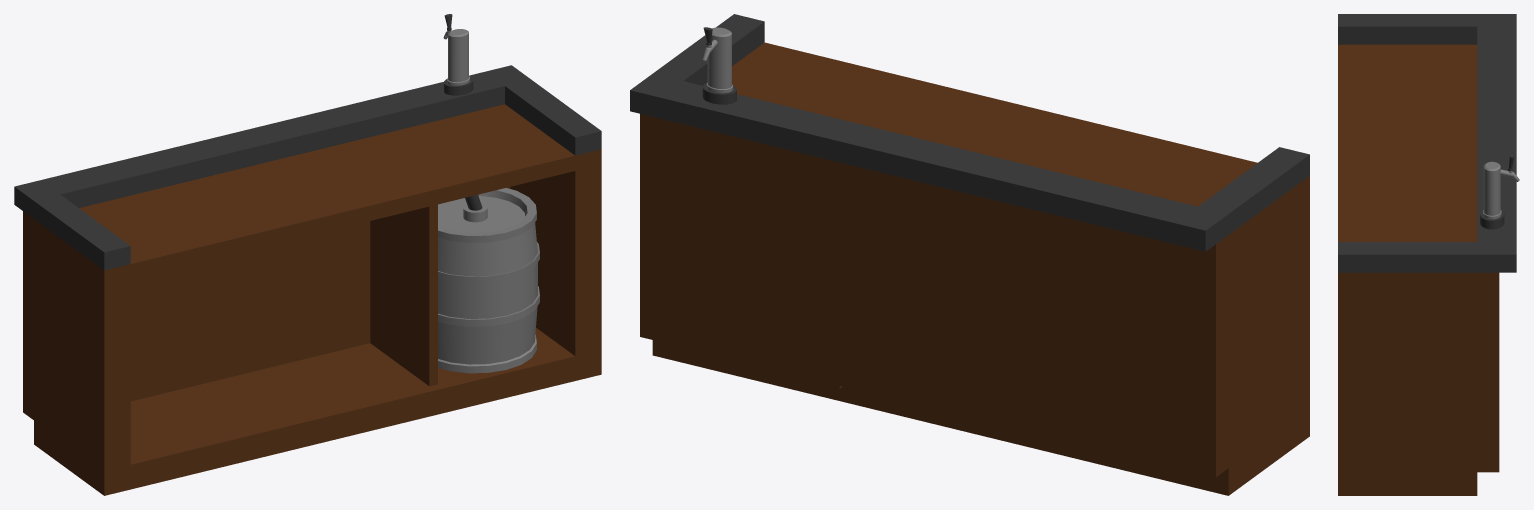
Rendered from bar.fbx.
3 views of the same model, side by side, from view 1: azimuth 30°, elevation 25°; view 2: azimuth 150°, elevation 25°; view 3: azimuth 270°, elevation 25° (orthographic). The views are drawn at different scales.
Parts seen in each view (by area): view 1: Bar; view 2: Bar; view 3: Bar.
Part boxes in pixels (box(x1,y1,x2,y2)): Bar: box(14, 14, 601, 495); Bar: box(630, 14, 1309, 495); Bar: box(1338, 14, 1519, 495).
Bounding box in the file's own units: 162 × 51.89 × 97.02.
